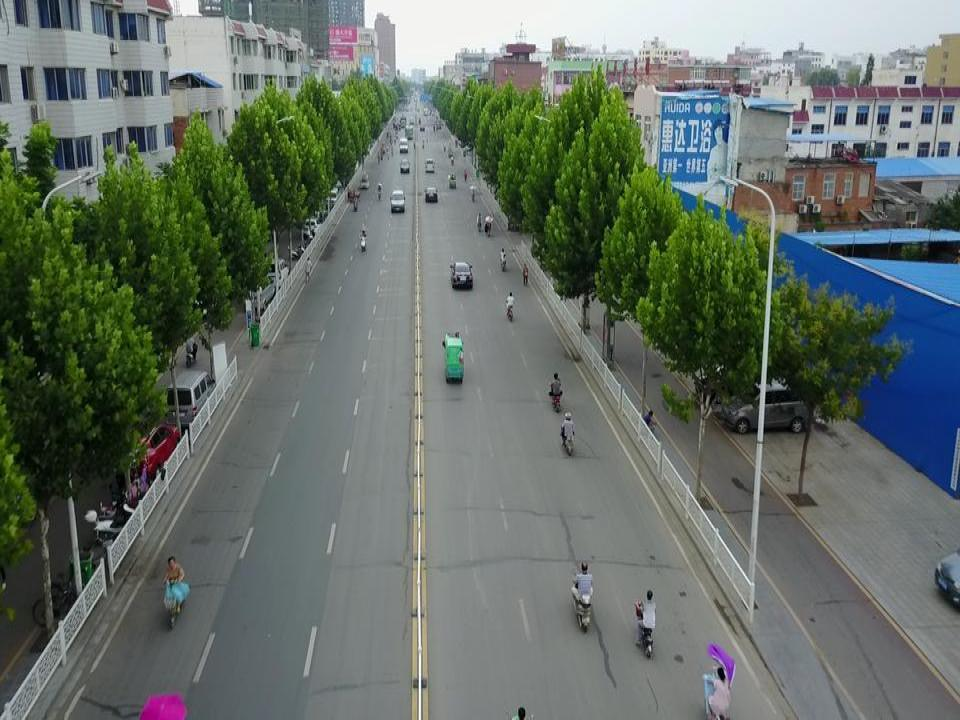car: (117, 422, 181, 494), (696, 348, 772, 401), (243, 273, 276, 312), (260, 257, 291, 294), (451, 262, 473, 289), (301, 216, 322, 236), (425, 186, 438, 202), (400, 160, 410, 173), (419, 125, 425, 132)
truck: (405, 125, 413, 140)
van: (721, 378, 814, 434), (165, 372, 214, 435), (442, 332, 464, 384), (391, 191, 405, 213), (325, 189, 337, 212), (399, 138, 408, 154), (425, 159, 435, 172)
